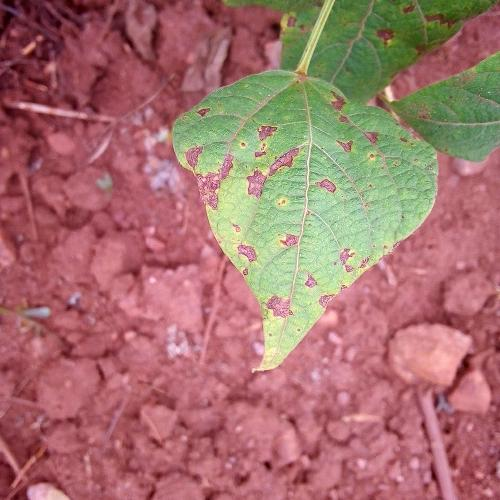hawar: (169, 74, 435, 368)
